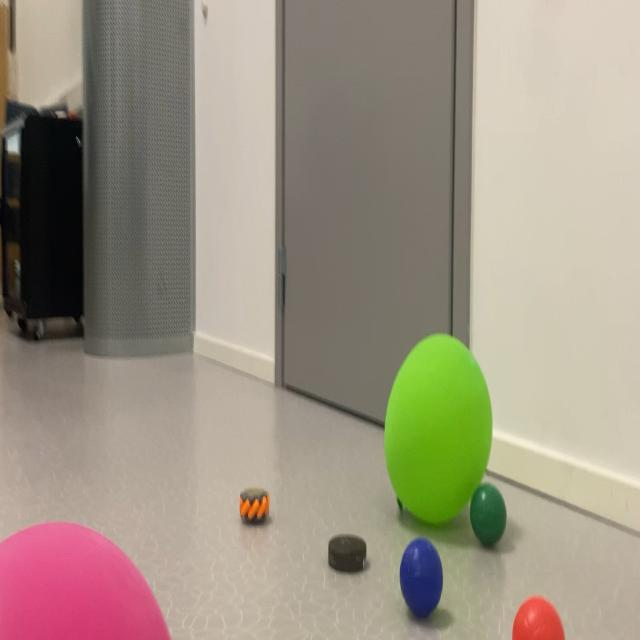7: (498, 566, 575, 640)
green ball: (372, 521, 464, 640)
red ball: (468, 447, 510, 561)
